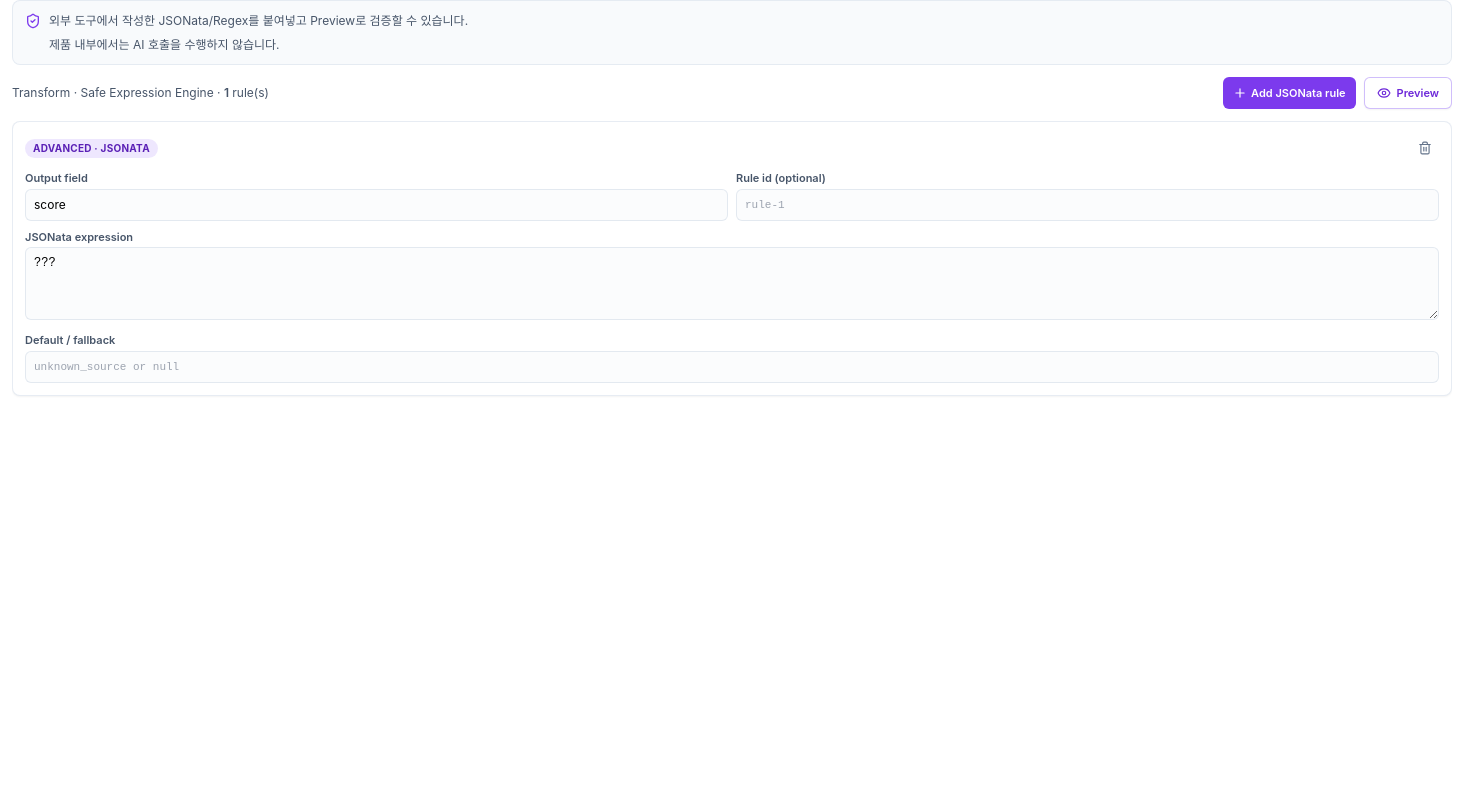
AdvancedTransformWorkspace › runs preview and shows save_blocked
The image size is (1464, 810).
Click the button "Preview" at [1408, 93], box [1364,77,1452,109]
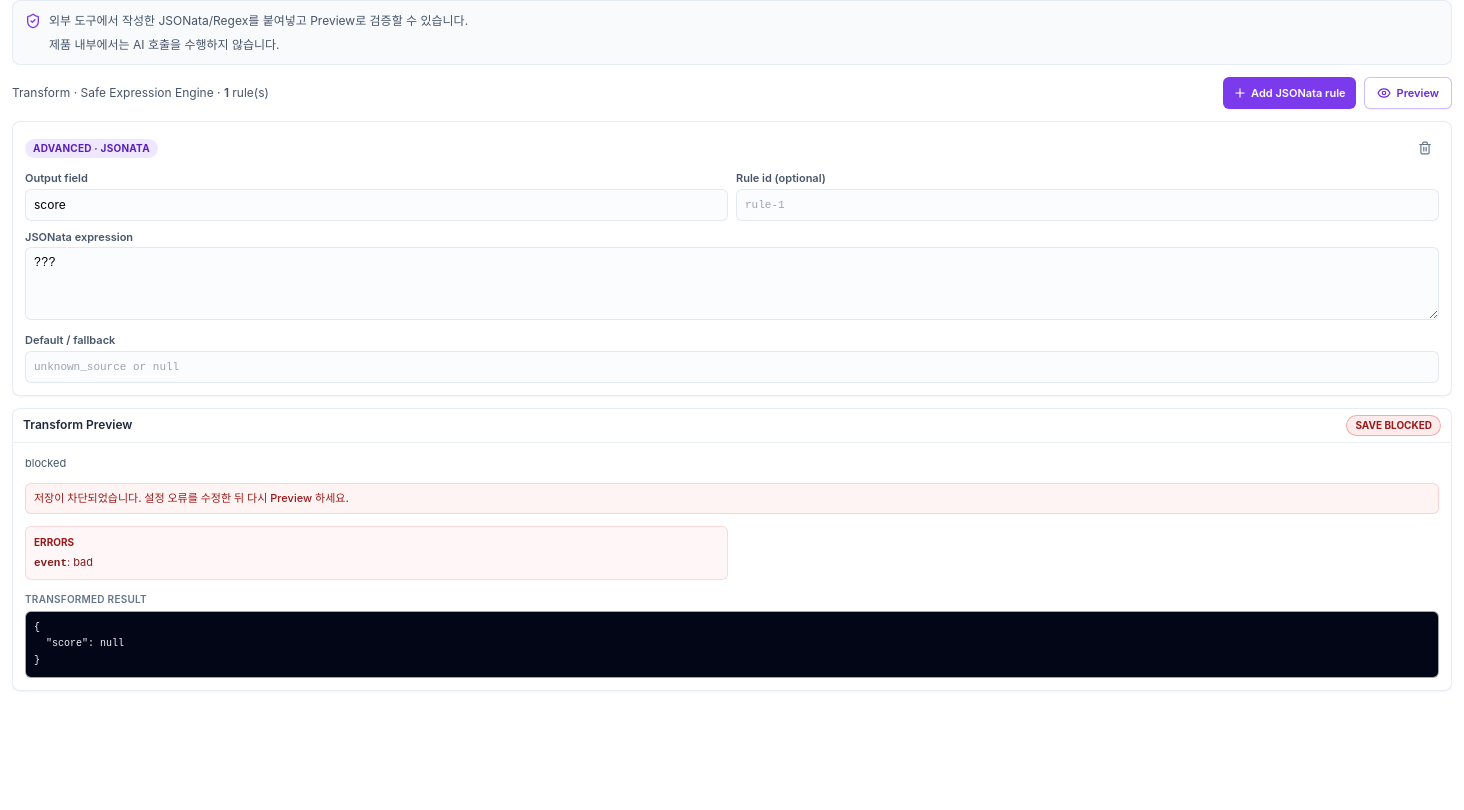
Expected: the text "Save blocked" is shown, [1346,414,1441,436]
